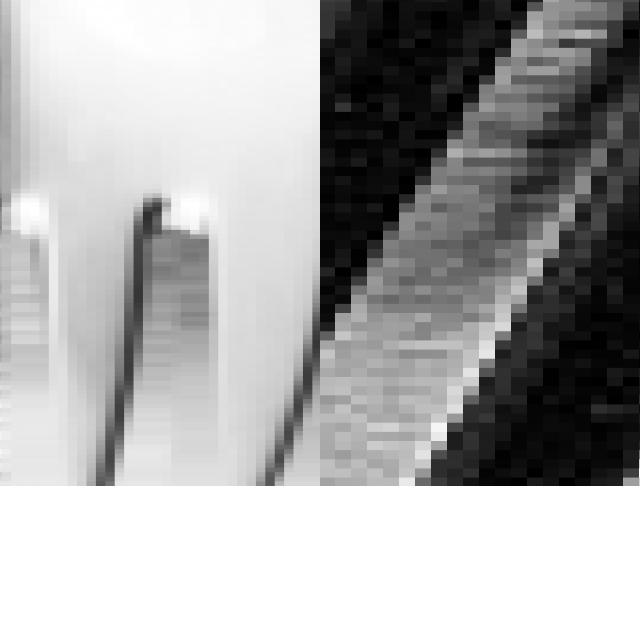forks: (0, 0, 320, 486), (320, 0, 640, 486)
